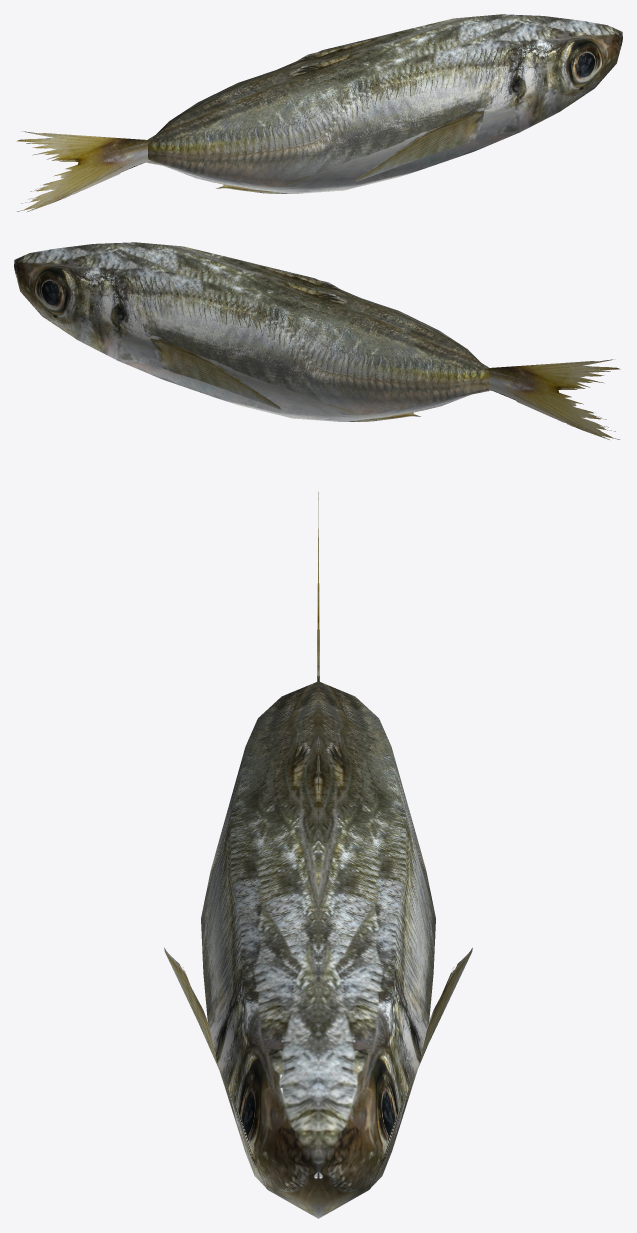
File: aji.fbx
3 views of the same model, one above another, from view 1: azimuth 30°, elevation 25°; view 2: azimuth 150°, elevation 25°; view 3: azimuth 270°, elevation 25° (orthographic). The views are drawn at different scales.
Visible parts, largest first — view 1: Circle; view 2: Circle; view 3: Circle.
Part boxes in pixels (<box>): Circle: <box>16,14,622,211</box>; Circle: <box>14,242,620,439</box>; Circle: <box>164,492,472,1218</box>.
Bounding box in the file's own units: 875 × 200 × 192.
1 material, 1 textured.
